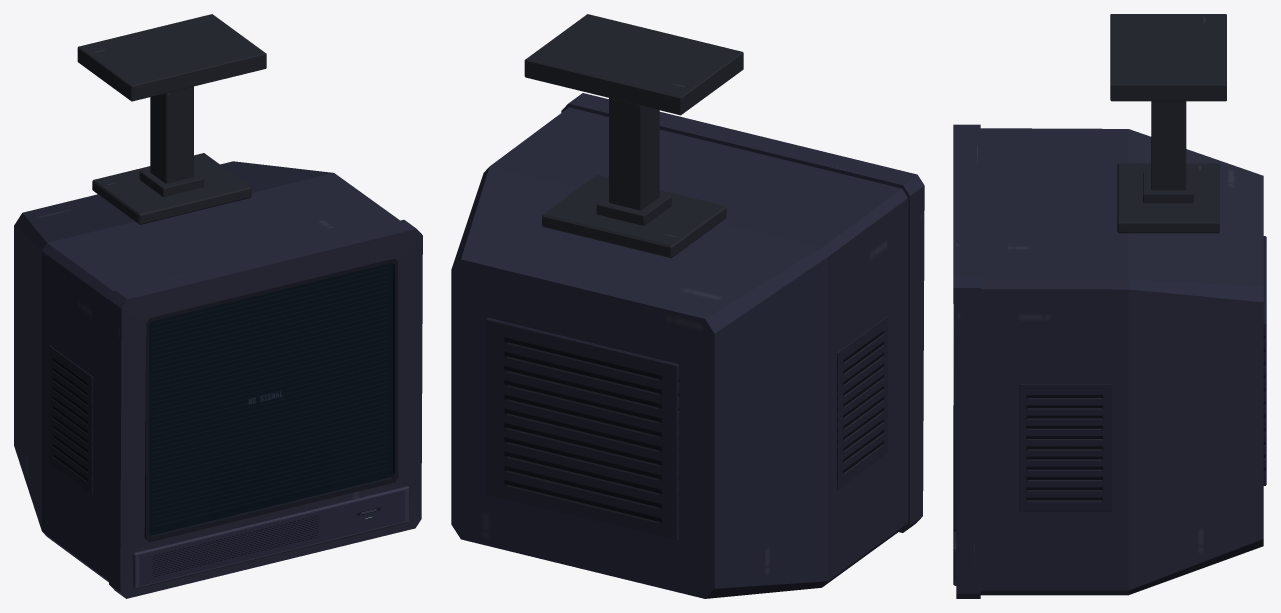
Rendered from score_monitor_inactive.glb.
3 renders of one model, left to right at view 1: azimuth 30°, elevation 25°; view 2: azimuth 150°, elevation 25°; view 3: azimuth 270°, elevation 25°, orthographic. The views are drawn at different scales.
Parts seen in each view (by area): view 1: arcade_score_monitor_inactive; view 2: arcade_score_monitor_inactive; view 3: arcade_score_monitor_inactive.
Part boxes in pixels (<box>): arcade_score_monitor_inactive: <box>14,14,422,598</box>; arcade_score_monitor_inactive: <box>451,14,924,598</box>; arcade_score_monitor_inactive: <box>953,14,1266,598</box>.
Size of the model in its own units: 0.8 by 1.12 by 0.6705.
3 materials, 3 textured.
